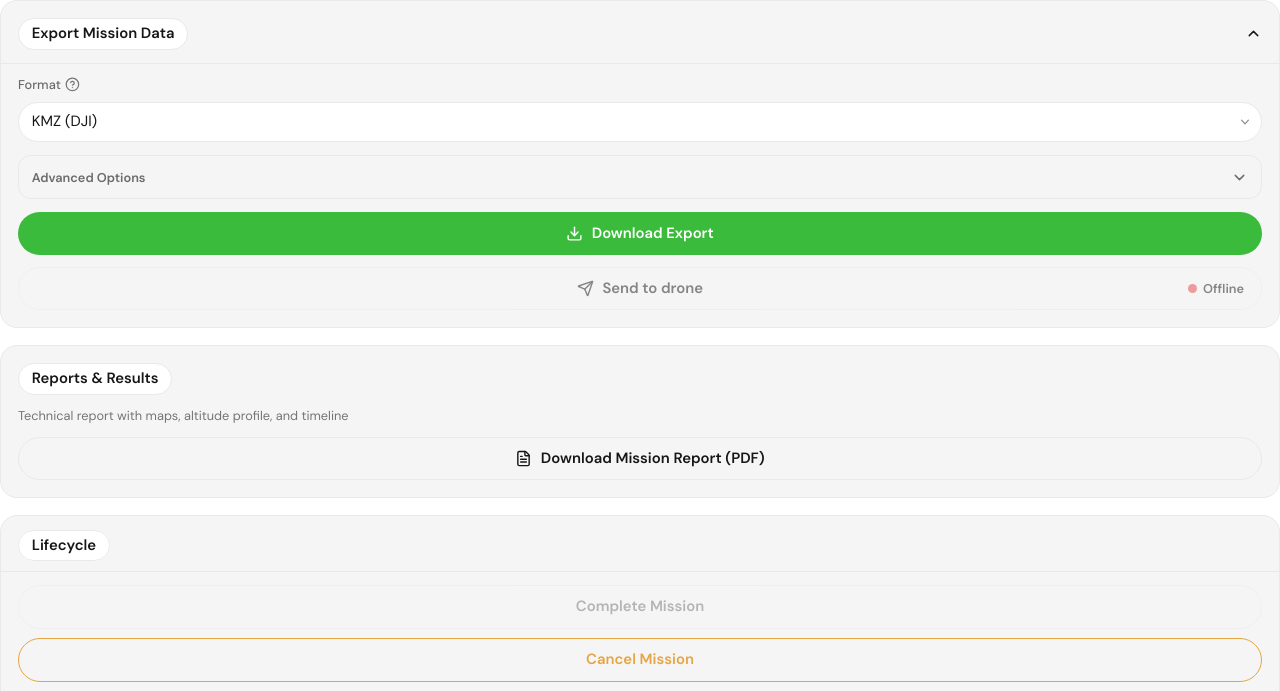
Test: ExportPanel - wpml fallback modal › uses the non-DJI body copy for non-DJI drones
Select "KMZ (DJI)" in the dropdown with test id "format-select" at x=640, y=122, box left=18, top=102, right=1262, bottom=142
Click the button with test id "download-export-btn" at x=640, y=233, box left=18, top=212, right=1262, bottom=254
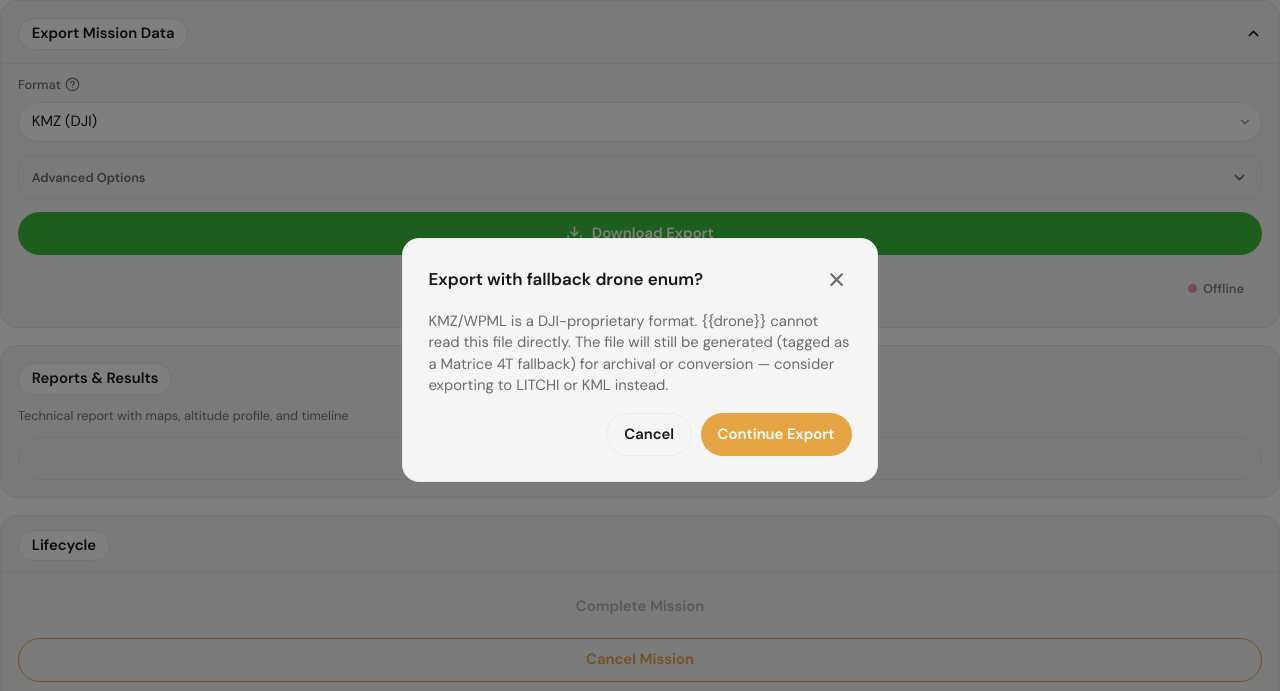
Expected: the text "DJI-proprietary" is shown, left=428, top=311, right=850, bottom=395
